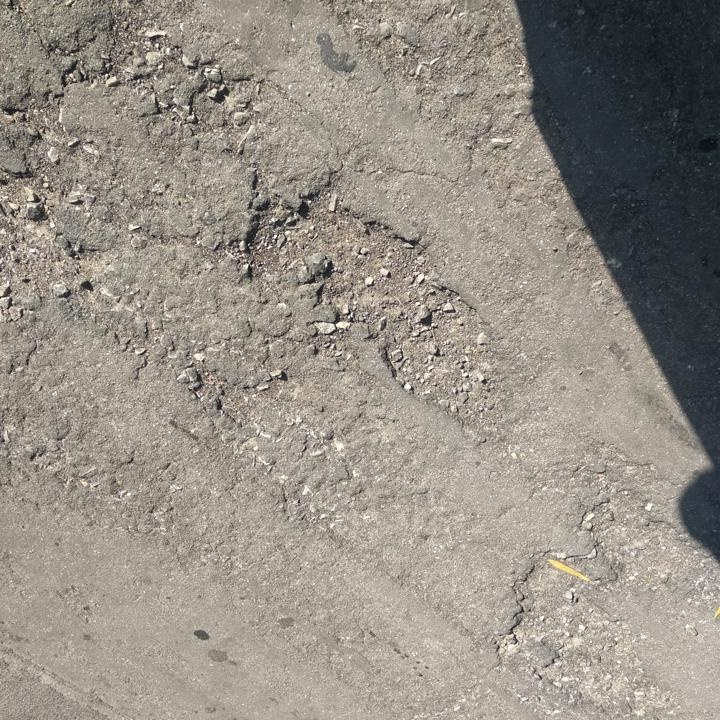pothole: (489, 554, 682, 719), (231, 178, 442, 325), (369, 292, 522, 432), (579, 488, 692, 590)
